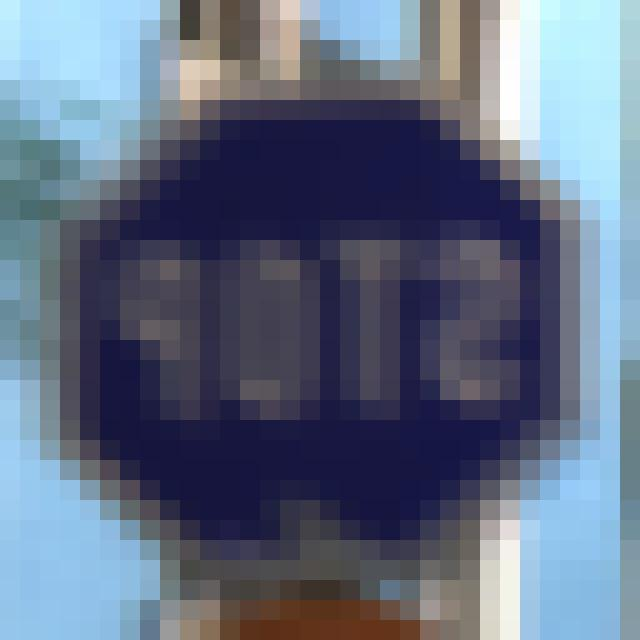STOP: (46, 76, 592, 582)
